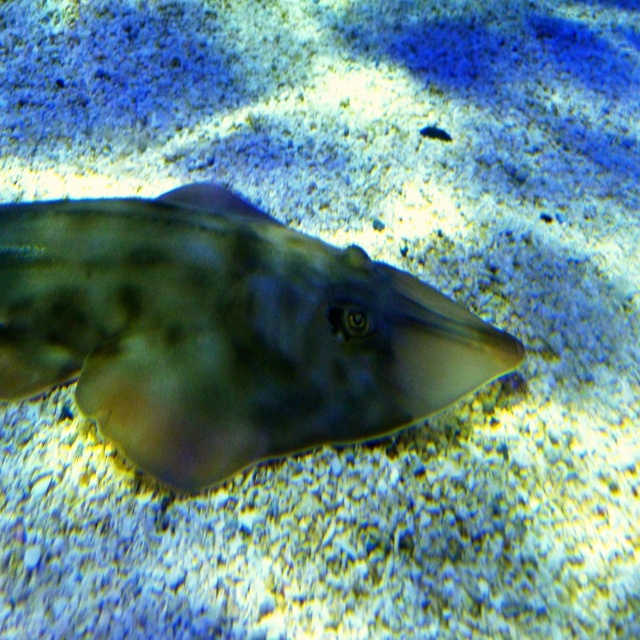Fish: (0, 156, 532, 509)
